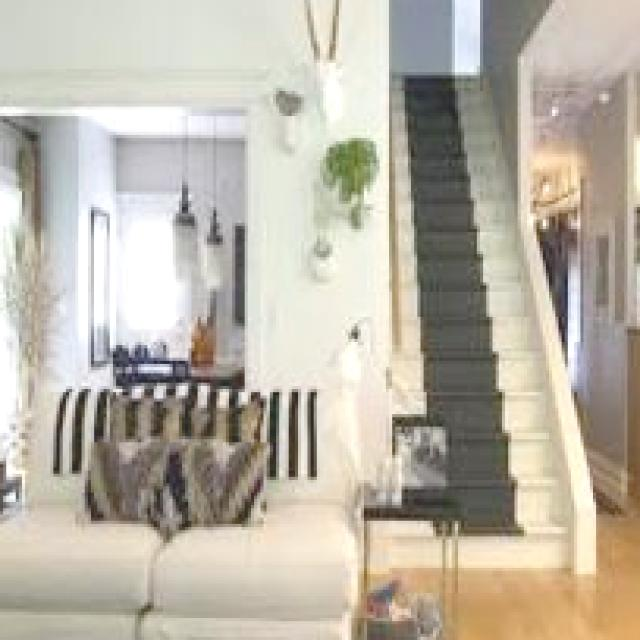upstair: (368, 337, 597, 559)
